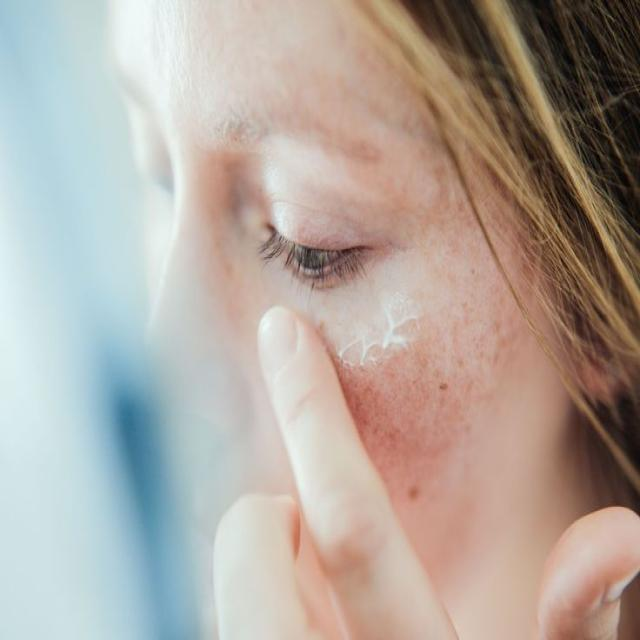dry: (342, 322, 458, 402), (424, 155, 480, 288)
